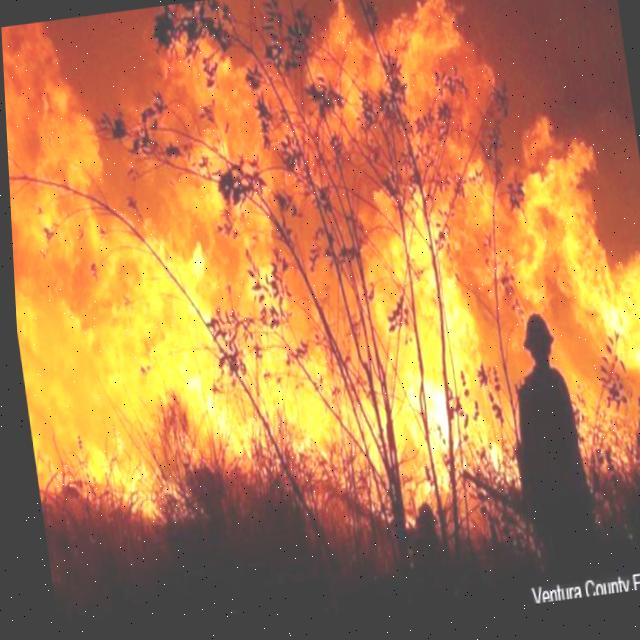fire: (4, 32, 640, 521)
